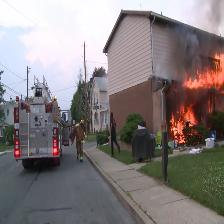fire: (160, 54, 224, 157)
nofire: (13, 131, 22, 161), (53, 123, 58, 161)
smoke: (165, 0, 224, 70)
